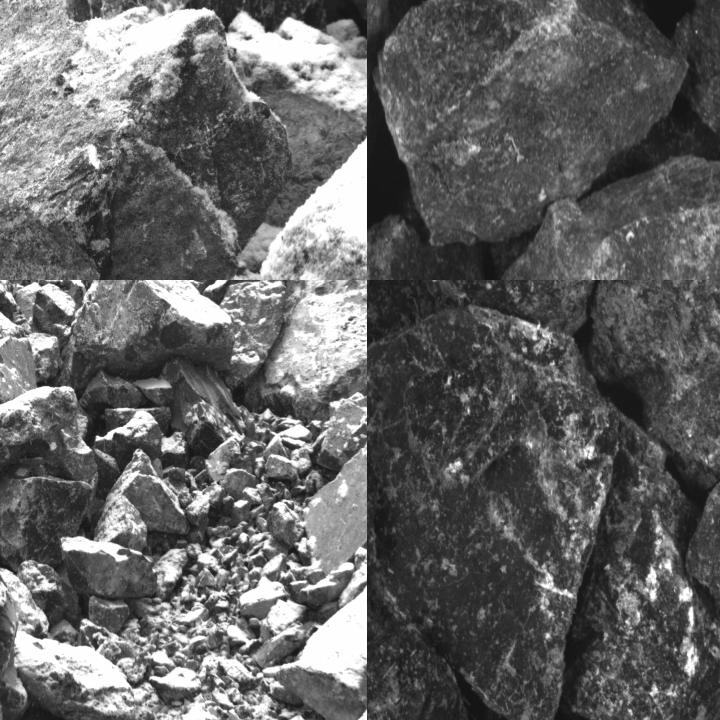stone: (367, 308, 619, 719), (0, 0, 294, 279), (372, 0, 684, 240), (566, 412, 719, 719), (485, 156, 719, 279), (589, 280, 719, 482), (59, 280, 228, 394), (272, 556, 366, 719), (252, 280, 366, 410), (7, 623, 142, 719), (367, 280, 592, 334), (0, 389, 98, 487), (367, 625, 469, 719), (0, 478, 94, 567), (304, 438, 366, 570), (222, 280, 289, 389), (109, 446, 189, 536), (165, 356, 247, 441), (677, 0, 719, 151), (62, 537, 157, 602), (0, 310, 38, 416), (316, 397, 366, 467), (93, 498, 148, 550), (83, 371, 142, 412), (31, 286, 75, 334), (267, 503, 305, 548), (136, 376, 176, 405), (266, 455, 301, 482)
